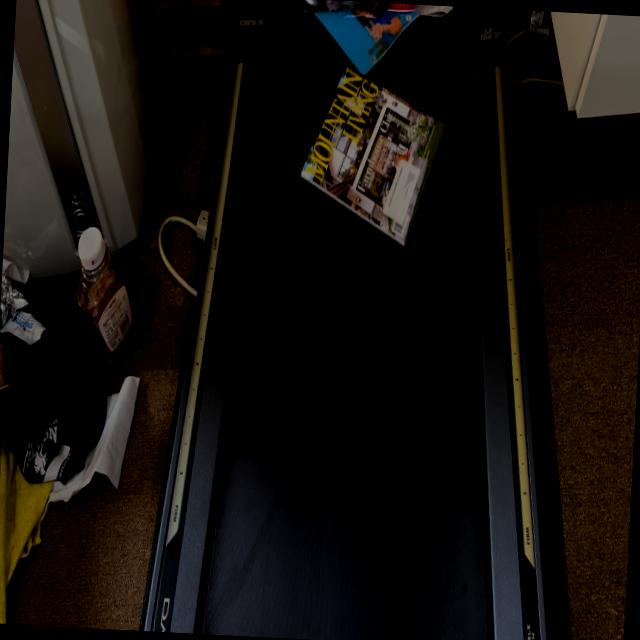Recycle: (296, 62, 449, 250), (295, 0, 426, 80)
